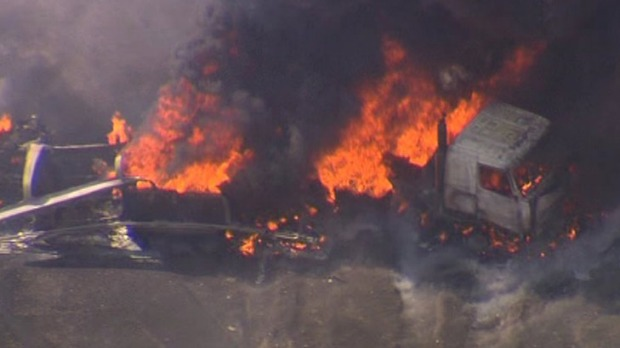Fire: (316, 139, 395, 198), (190, 117, 239, 196), (133, 115, 180, 186), (355, 80, 400, 134), (404, 92, 437, 165), (379, 29, 407, 77), (109, 113, 126, 146)
